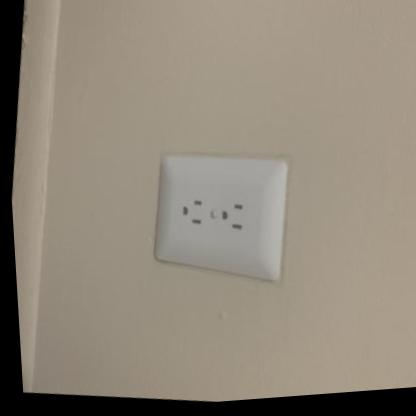OUTLET: (147, 141, 295, 291)
